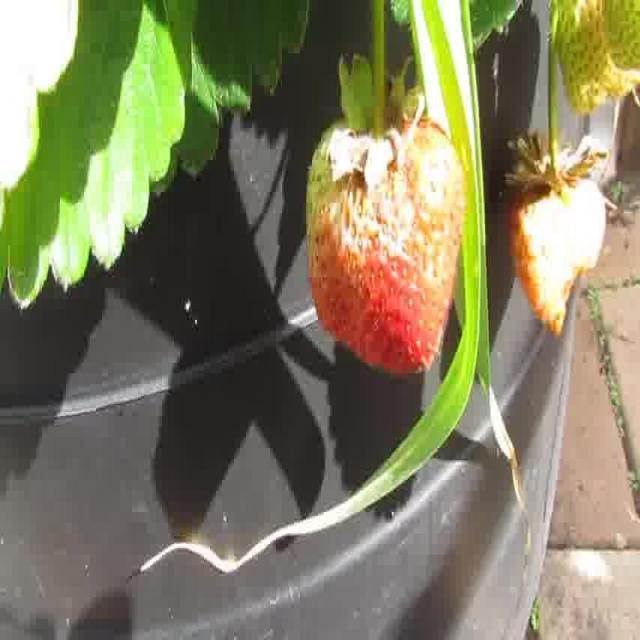Fruta sana: (306, 115, 470, 370)
